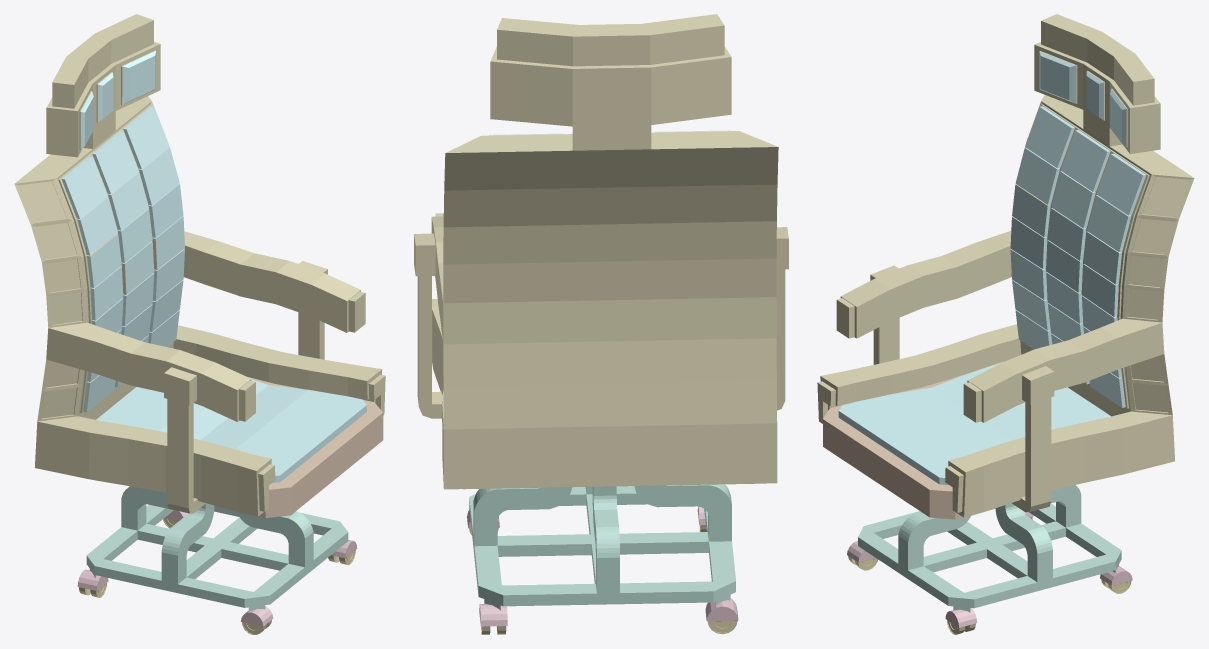
Rendered from Character_Rooms_Tesla_Chair.fbx.
3 renders of one model, left to right at view 1: azimuth 30°, elevation 25°; view 2: azimuth 150°, elevation 25°; view 3: azimuth 270°, elevation 25°, orthographic. The views are drawn at different scales.
Parts seen in each view (by area): view 1: Cube.007, Cube.006, Cube.009, Cylinder; view 2: Cube.007, Cube.009, Cylinder; view 3: Cube.007, Cube.006, Cube.009, Cylinder.
Boxes of the visible parts, bbox=[...] form: Cube.007: bbox=[14, 14, 385, 516]; Cube.006: bbox=[96, 377, 383, 517]; Cube.009: bbox=[86, 486, 348, 610]; Cylinder: bbox=[77, 510, 357, 634]; Cube.007: bbox=[414, 14, 788, 489]; Cube.009: bbox=[469, 484, 735, 610]; Cylinder: bbox=[467, 506, 738, 634]; Cube.007: bbox=[817, 14, 1194, 517]; Cube.006: bbox=[823, 361, 1111, 519]; Cube.009: bbox=[858, 485, 1121, 612]; Cylinder: bbox=[847, 511, 1132, 634].
Size of the model in its own units: 177 by 263 by 179.
